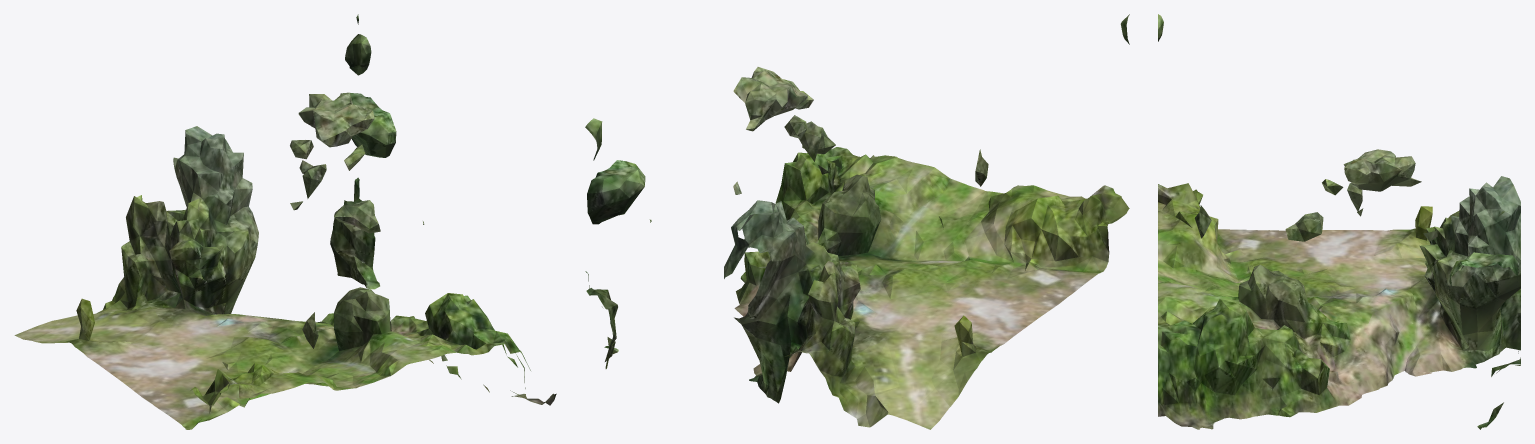
3 renders of one model, left to right at view 1: azimuth 30°, elevation 25°; view 2: azimuth 150°, elevation 25°; view 3: azimuth 270°, elevation 25°, orthographic. The views are drawn at different scales.
Size of the model in its own units: 26.11 by 20.84 by 26.11.
4 materials, 4 textured.
